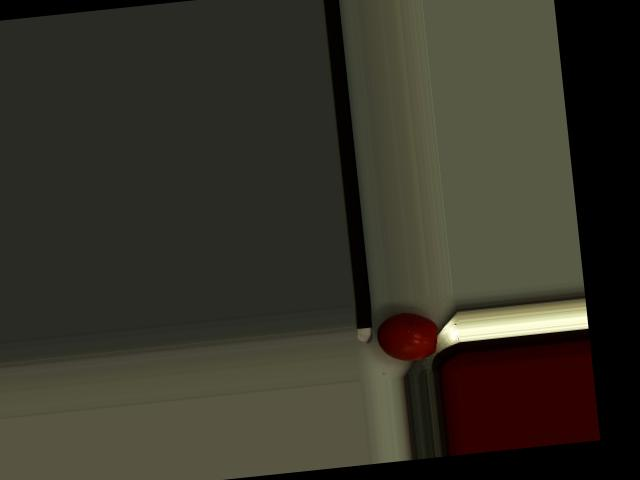tomato: (375, 309, 441, 364)
